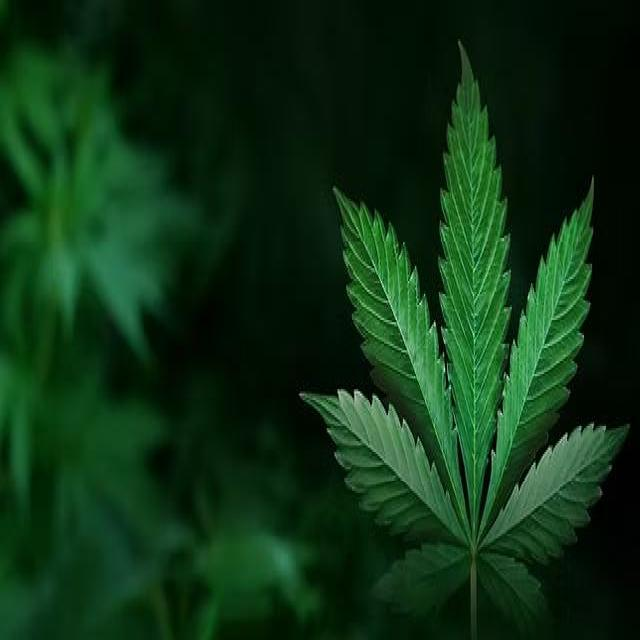cannabis: (298, 43, 632, 638)
